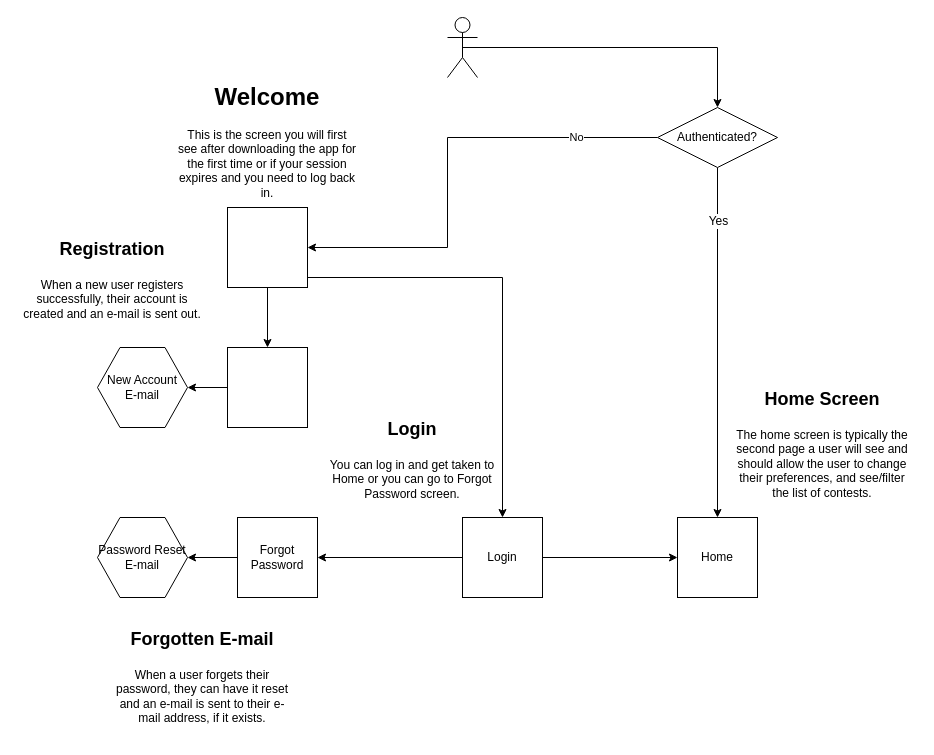
Image size: 934x755. Some labels were removed from this diagram. The shapes that lost their labels are listed below. From the top down, each one's centre as x and y in pixels, then its label:
point (462, 47): User/Contestant
point (267, 247): Welcome
point (267, 387): Register
